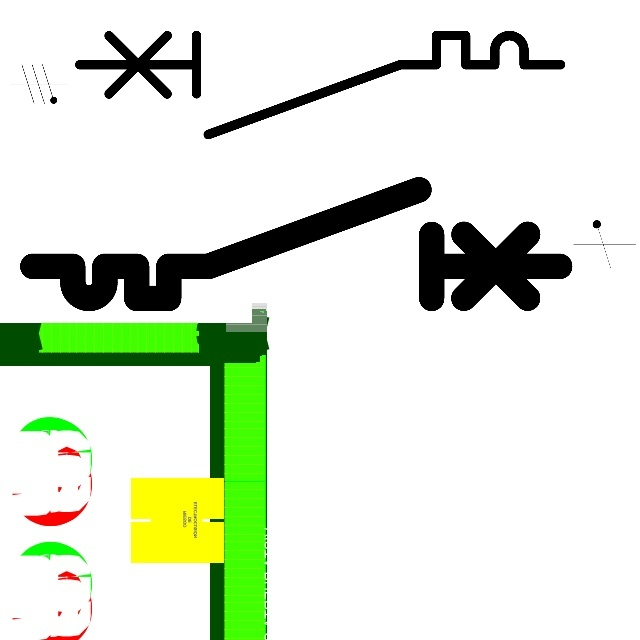interruptor_termomagnetico: (19, 176, 573, 312), (67, 23, 573, 147)
